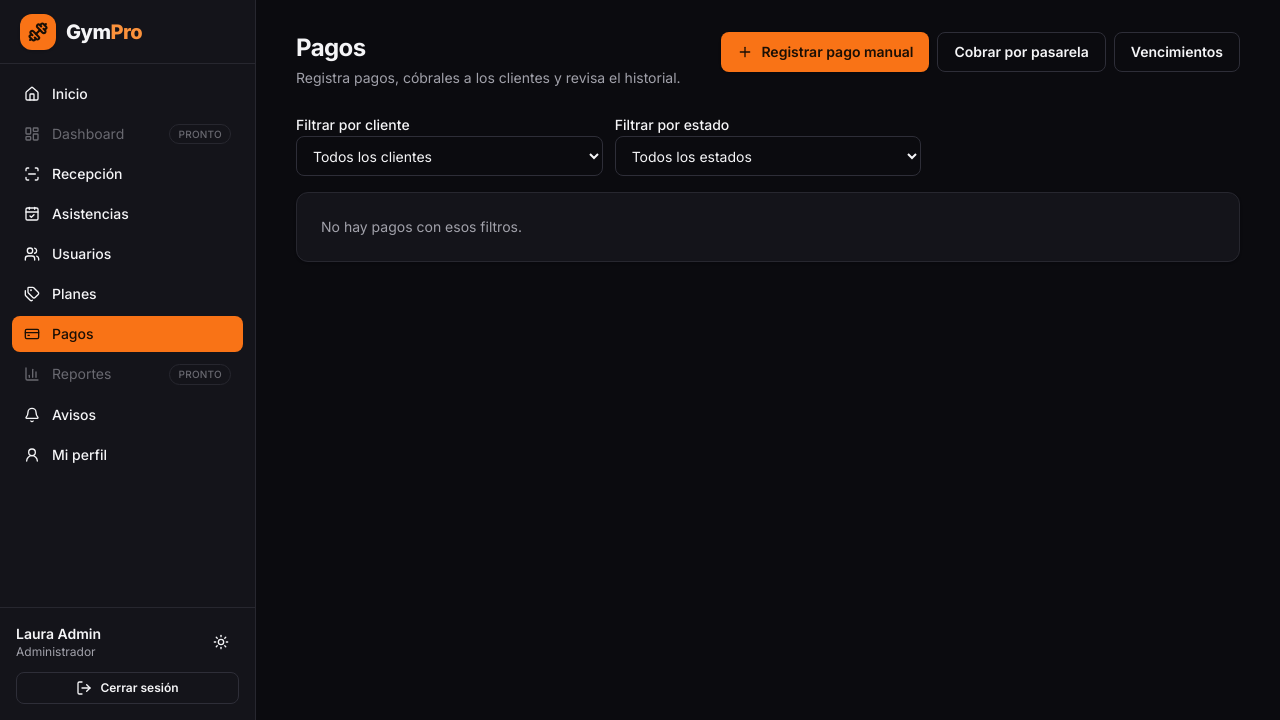
Test: Vencimientos en Pagos (administrador) › «Registrar pago» abre el pago manual con ese cliente ya elegido
Step 1. Click the button "Vencimientos" → x=1177, y=52, box [1114,32,1240,72]
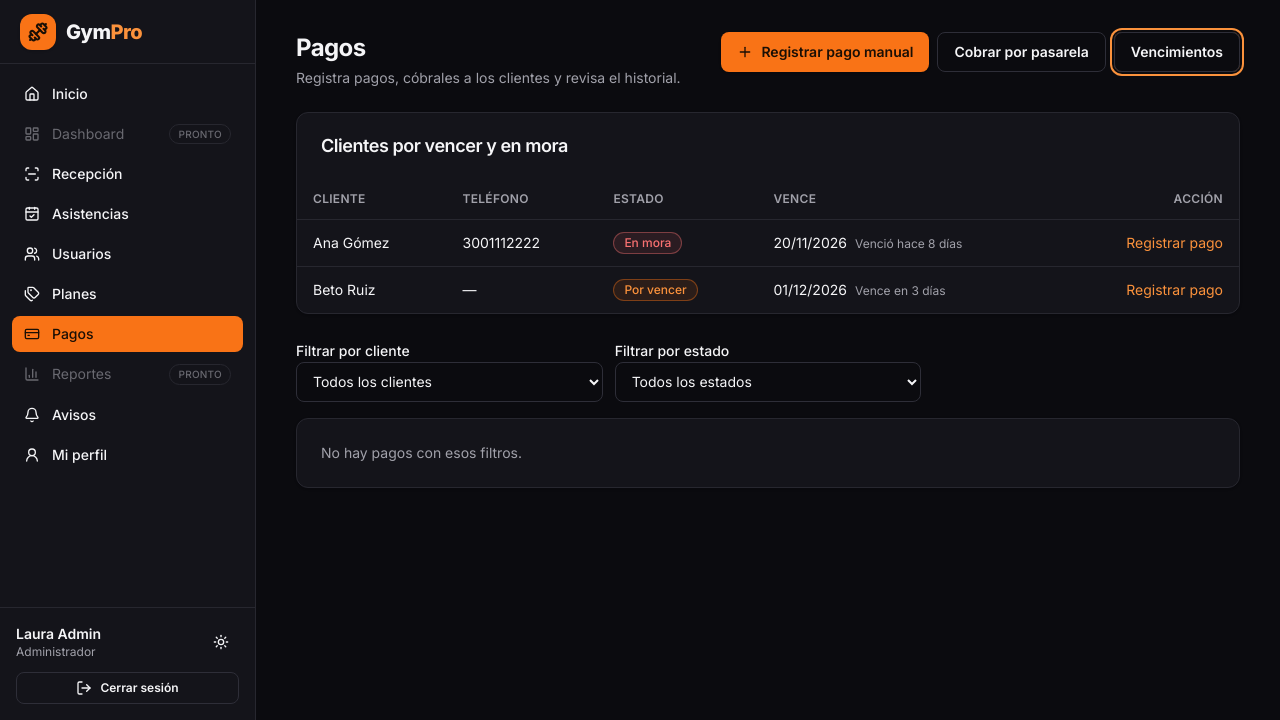
Step 2. Click the button with aria-label "Registrar pago de Beto Ruiz" → x=1175, y=290, box [1126,280,1223,300]
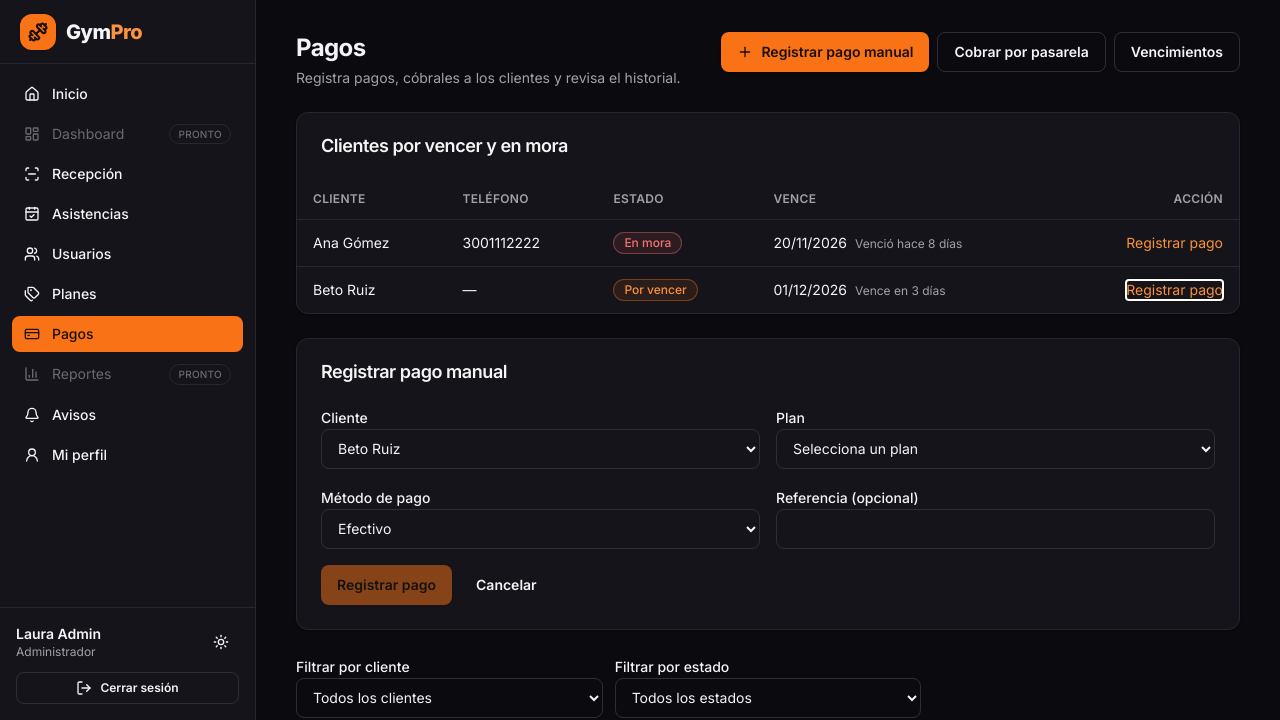
Expected: the dropdown labelled "Cliente" shows "Beto Ruiz", [321,428,760,468]
